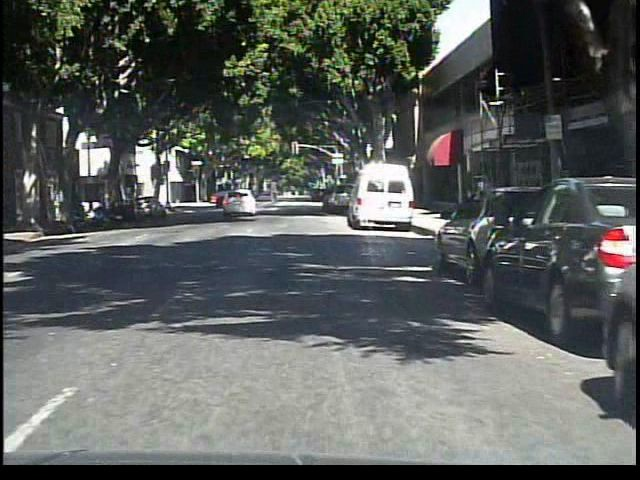person: (469, 167, 497, 226), (264, 178, 284, 211)
